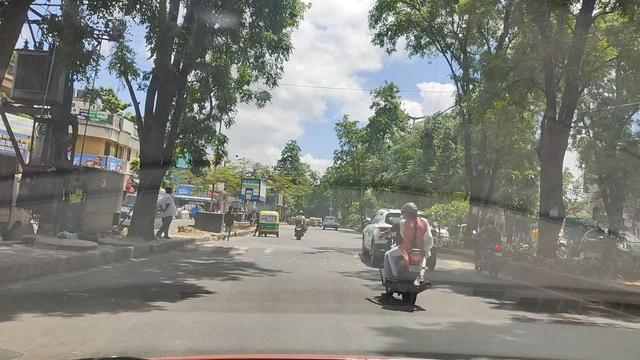LMV: (385, 201, 435, 318)
SpeedBump: (211, 241, 354, 256)
